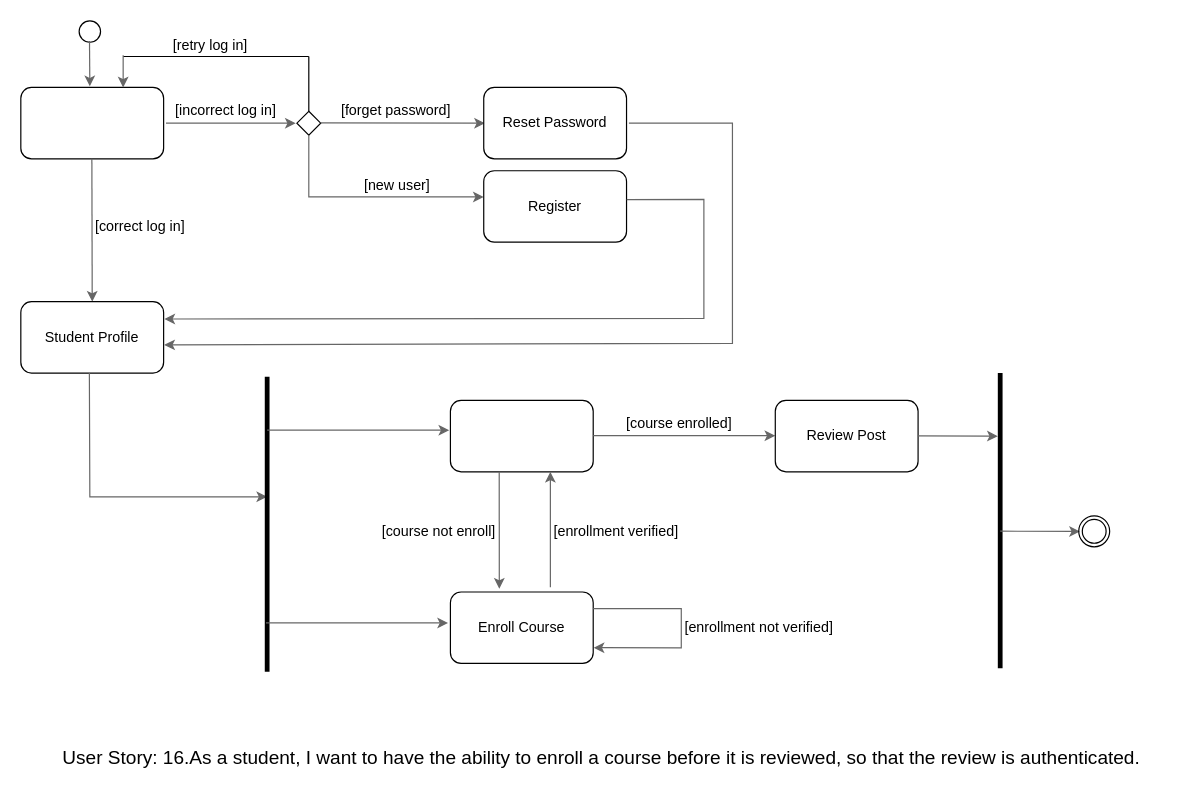
This 1182x796 diagram has some shape labels left out. The box of each missing label's shape, as (x1, y1, x2, y2) in pixels:
Add Review: (449, 399, 593, 472)
Log in: (20, 86, 164, 159)
